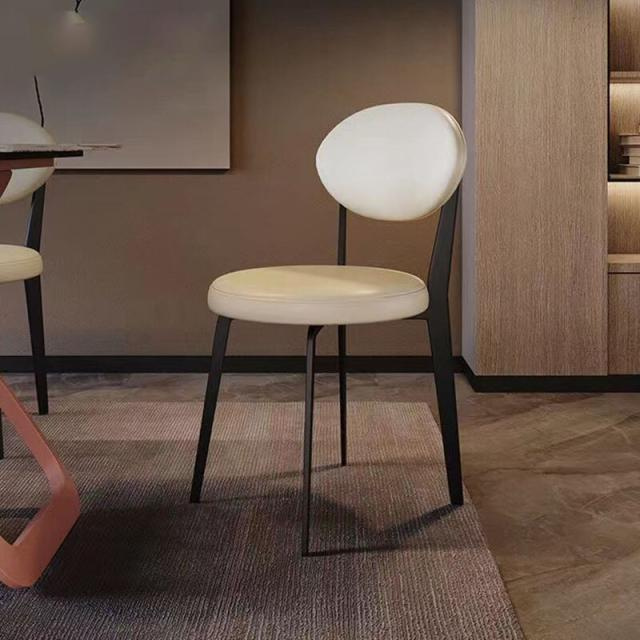chair: (187, 98, 469, 560), (183, 93, 463, 340)
